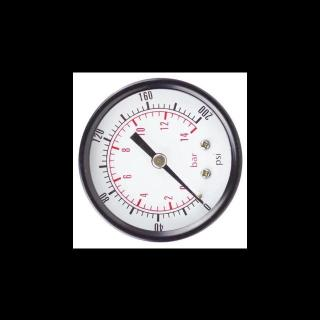gauge: (73, 72, 247, 248), (191, 110, 209, 126), (150, 152, 166, 168), (195, 196, 211, 212), (198, 198, 205, 206)
